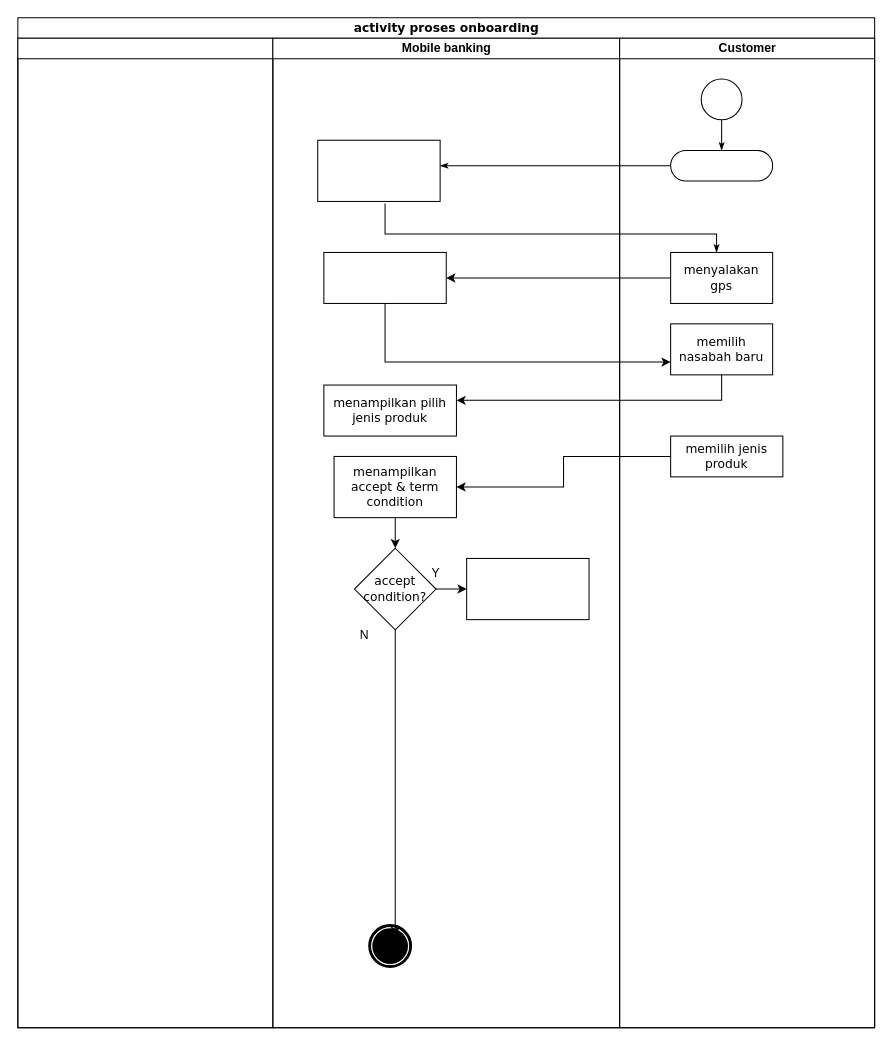
This 893x1046 diagram has some shape labels left out. The centre of each missing label's shape, as x and y in pixels:
Buka aplikasi MB: the point at 721,165
Core banking: the point at 145,532
Menampilkan perintah untuk mengaktifkan location(gps): the point at 378,170
tampilkan menu login sudah punya login/nasabah baru: the point at 384,277
